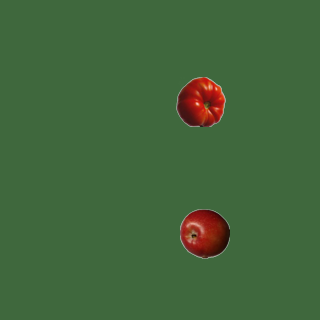Apple Braeburn: (179, 208, 229, 258)
Tomato 3: (175, 76, 225, 126)
